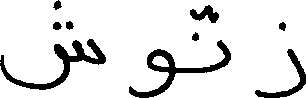ز: (255, 20, 305, 96)
ش: (0, 0, 105, 90)
ن: (188, 26, 230, 70)
و: (129, 46, 175, 96)
